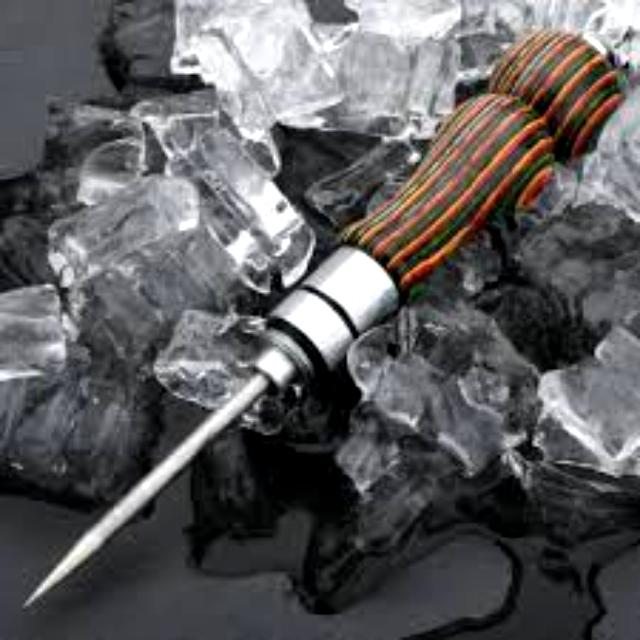ice pick: (16, 8, 630, 640)
